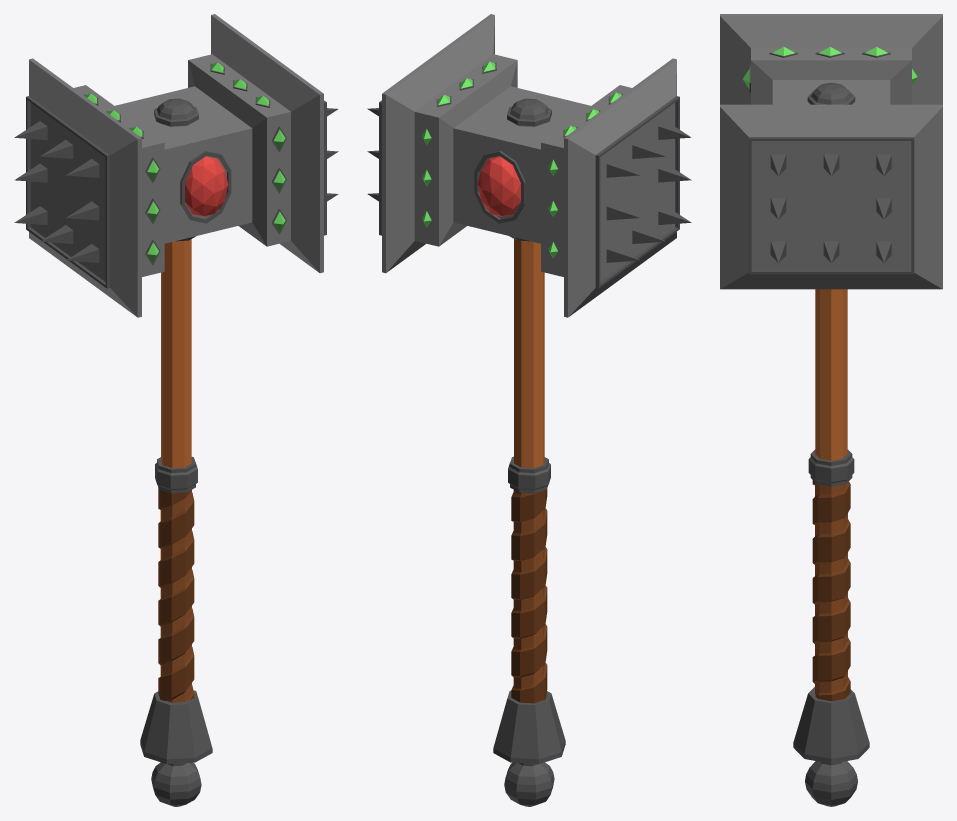
The model's file is hammer_1.fbx.
The picture shows the model from 3 angles, left to right: view 1: azimuth 30°, elevation 25°; view 2: azimuth 150°, elevation 25°; view 3: azimuth 270°, elevation 25°; orthographic projection. The views are drawn at different scales.
Parts seen in each view (by area): view 1: Hammer; view 2: Hammer; view 3: Hammer.
Part boxes in pixels (x1,y1,x2,y2): Hammer: (14, 14, 338, 806); Hammer: (367, 14, 691, 806); Hammer: (720, 14, 942, 806).
Bounding box in the file's own units: 64.32 × 164 × 44.42.
